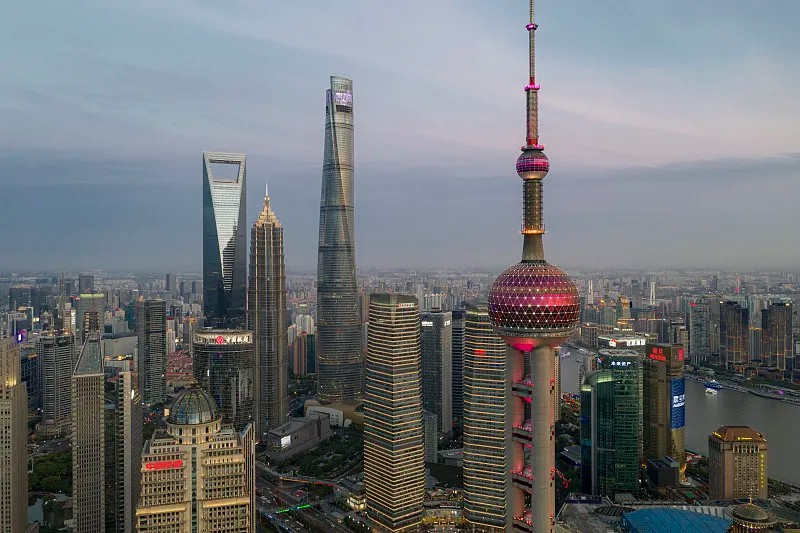Oriental: (489, 1, 581, 533)
